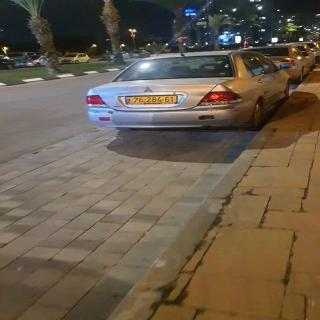LicensePlate: (130, 96, 177, 103)
